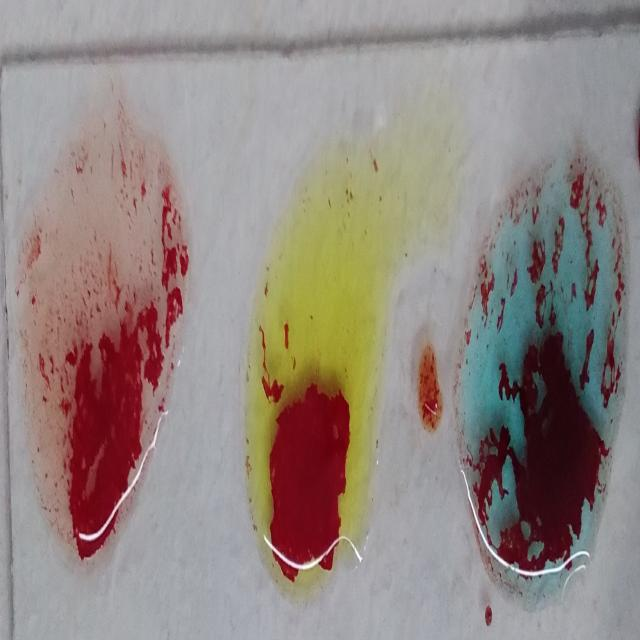A: (456, 143, 626, 610)
B: (246, 145, 380, 594)
D: (15, 102, 183, 569)
